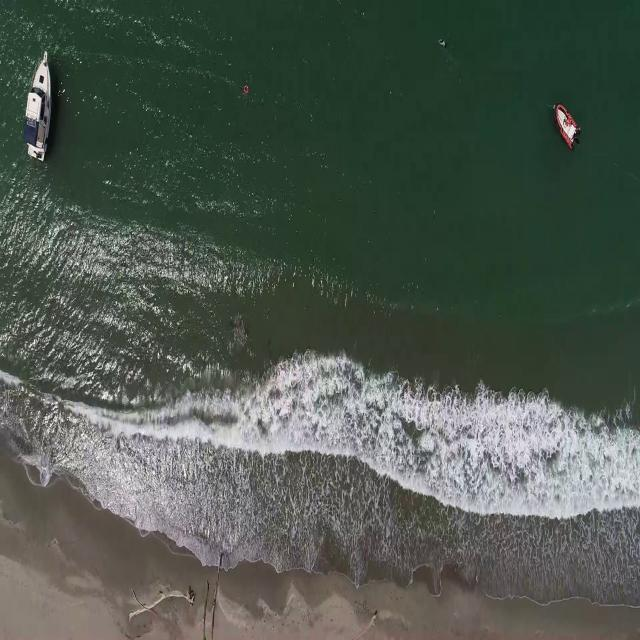boat: (21, 46, 52, 158), (551, 103, 582, 150)
life_buoy: (240, 82, 252, 96)
person: (437, 33, 451, 58)
wood: (127, 584, 195, 620), (200, 553, 222, 640), (356, 607, 380, 634)
